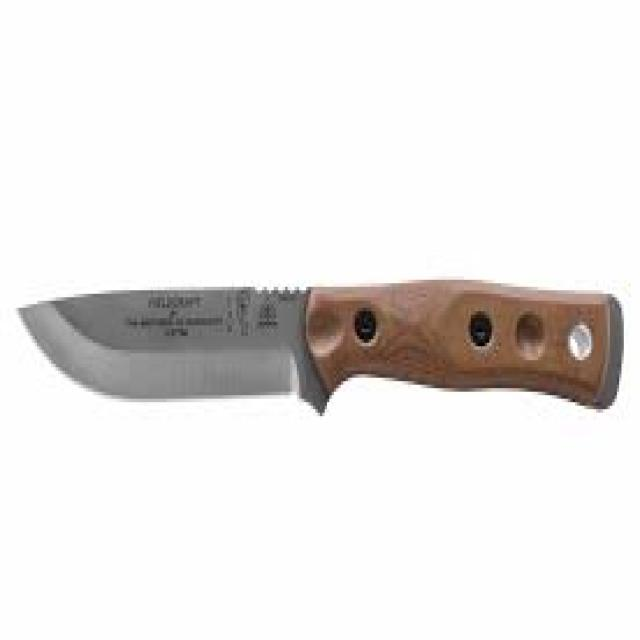knife: (19, 277, 629, 423)
